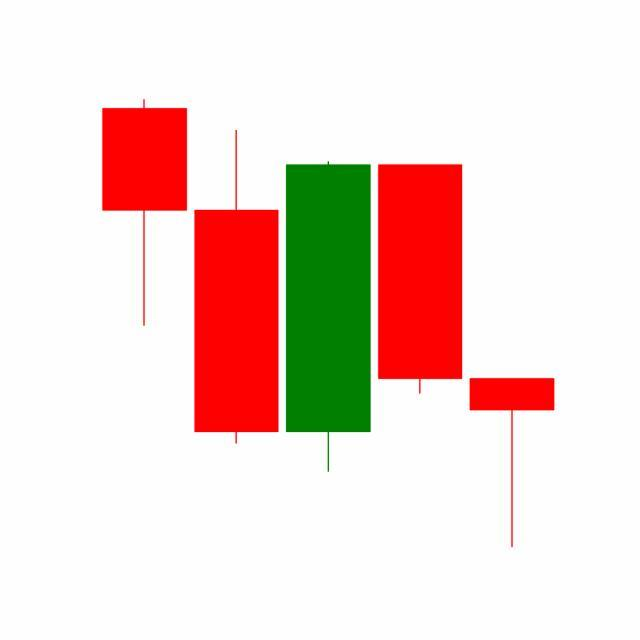Hammer: (466, 377, 559, 551)
